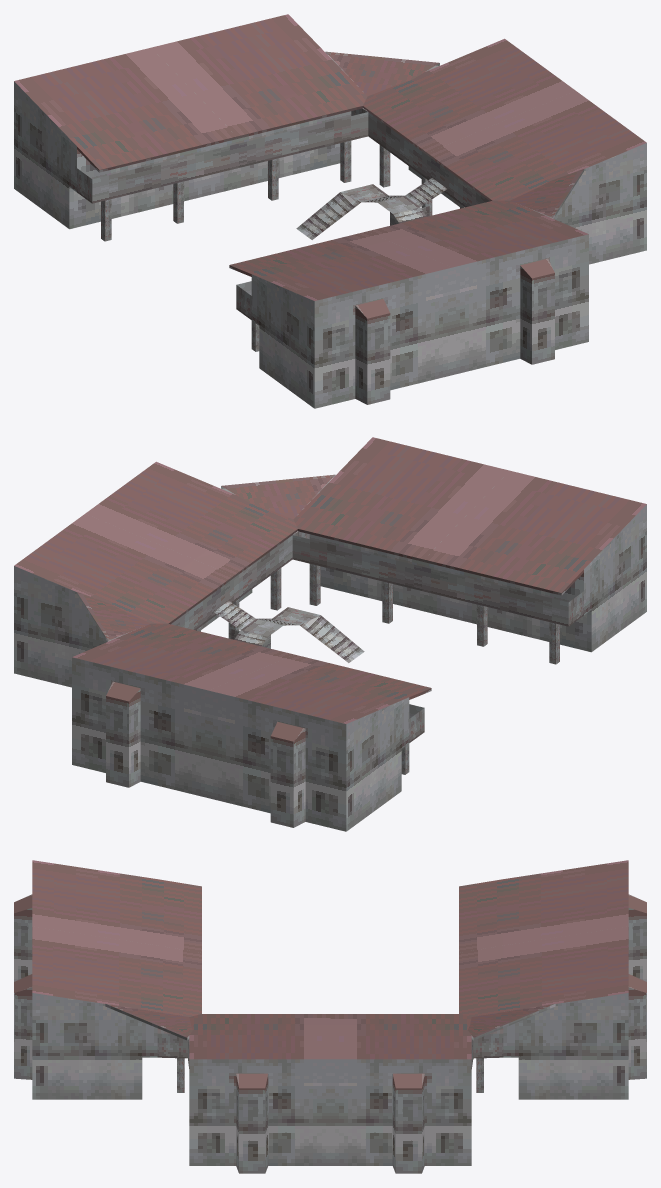
File: lodsw_apartments07.obj
3 views of the same model, one above another, from view 1: azimuth 30°, elevation 25°; view 2: azimuth 150°, elevation 25°; view 3: azimuth 270°, elevation 25° (orthographic).
Parts seen in each view (by area): view 1: LODsw_apartments07; view 2: LODsw_apartments07; view 3: LODsw_apartments07.
Boxes of the visible parts, x1,y1,x2,y2 form: LODsw_apartments07: (14,14,646,408); LODsw_apartments07: (14,437,646,831); LODsw_apartments07: (14,860,646,1173).
Size of the model in its own units: 31.17 by 7.54 by 40.3.
1 material, 1 textured.
